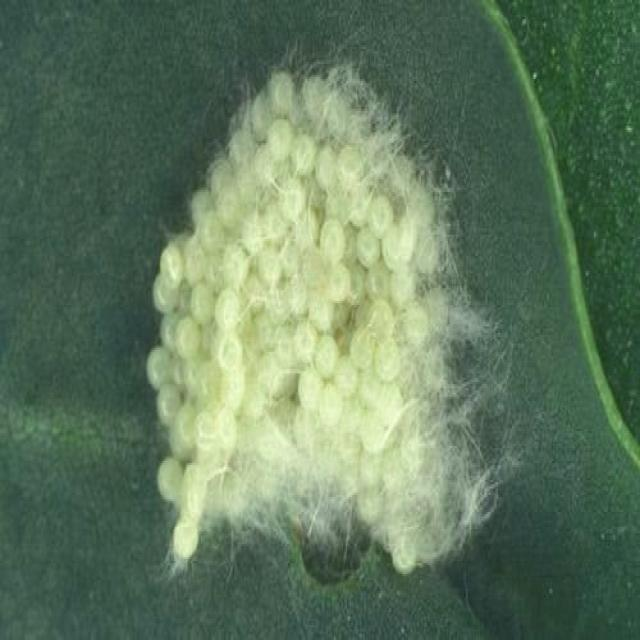army worm: (148, 39, 517, 583)
